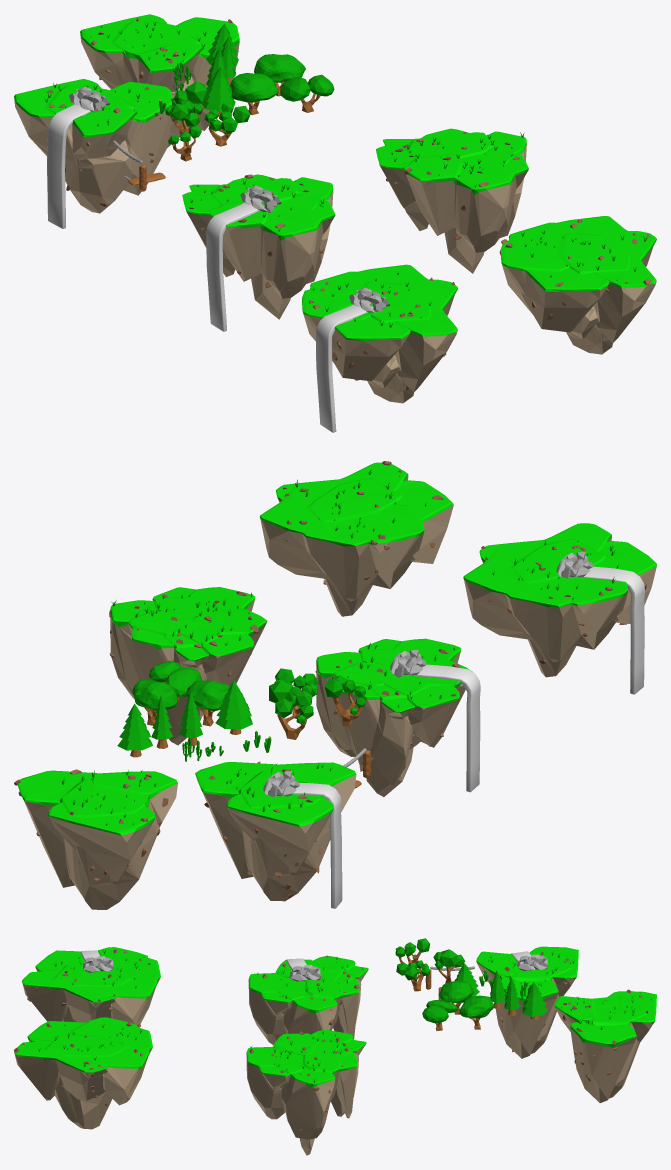
File: floating islands.fbx
The picture shows the model from 3 angles, top to bottom: view 1: azimuth 30°, elevation 25°; view 2: azimuth 150°, elevation 25°; view 3: azimuth 270°, elevation 25°; orthographic projection. The views are drawn at different scales.
Parts seen in each view (by area): view 1: island 3, island 2, island with water 3, island with water 2, island with water 1, island 1, water, BezierCurve.000, BezierCurve.004, maple tree 2, maple tree 3, maple tree 1 (+7 smaller); view 2: island 3, island with water 3, island 1, island with water 2, island with water 1, island 2, BezierCurve.000, BezierCurve.004, water, tree 1, spruce tree 2, maple tree 1 (+10 smaller); view 3: island 3, island 2, island with water 3, island with water 2, island 1, island with water 1, maple tree 1, maple tree 2, maple tree 3, tree 2, spruce tree 1, tree 1 (+6 smaller).
Part boxes in pixels (x1,y1,x2,y2): island 3: [500, 216, 656, 354]; island 2: [376, 128, 528, 273]; island with water 3: [302, 264, 457, 403]; island with water 2: [182, 174, 335, 319]; island with water 1: [14, 79, 172, 213]; island 1: [80, 14, 239, 147]; water: [47, 102, 93, 228]; BezierCurve.000: [206, 203, 264, 331]; BezierCurve.004: [316, 304, 373, 432]; maple tree 2: [230, 73, 277, 115]; maple tree 3: [280, 74, 334, 112]; maple tree 1: [254, 54, 305, 96]; island 3: [260, 462, 453, 616]; island with water 3: [463, 523, 656, 677]; island 1: [17, 770, 177, 909]; island with water 2: [316, 638, 472, 796]; island with water 1: [195, 762, 356, 901]; island 2: [110, 587, 267, 745]; BezierCurve.000: [409, 664, 480, 792]; BezierCurve.004: [576, 566, 644, 694]; water: [293, 783, 342, 908]; tree 1: [269, 680, 313, 739]; spruce tree 2: [215, 680, 252, 734]; maple tree 1: [132, 679, 177, 725]; island 3: [14, 1017, 152, 1129]; island 2: [246, 1029, 366, 1155]; island with water 3: [22, 947, 160, 1025]; island with water 2: [248, 956, 368, 1044]; island 1: [554, 991, 656, 1102]; island with water 1: [476, 946, 578, 1058]; maple tree 1: [459, 995, 494, 1029]; maple tree 2: [438, 980, 473, 1014]; maple tree 3: [422, 1000, 458, 1031]; tree 2: [396, 960, 430, 991]; spruce tree 1: [522, 982, 547, 1019]; tree 1: [433, 949, 464, 983].
Size of what is drawn, in the model's own units: 6.06 by 2.83 by 12.19.
